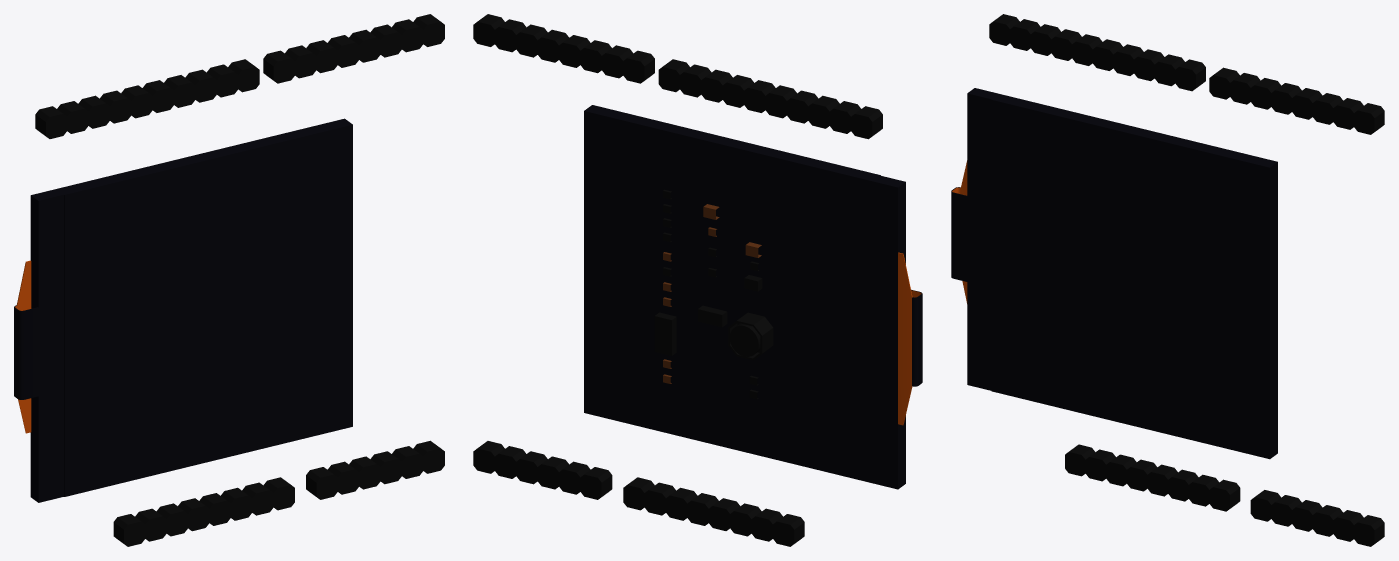
Rendered from Devices.obj.
3 renders of one model, left to right at view 1: azimuth 30°, elevation 25°; view 2: azimuth 150°, elevation 25°; view 3: azimuth 330°, elevation 25°, orthographic. The views are drawn at different scales.
Parts seen in each view (by area): view 1: screen, base01b, base01a, base02b, base02a; view 2: screen, base01b, base02b, base01a, LCD_devices, base02a; view 3: screen, base01b, base02b, base01a, base02a.
Part boxes in pixels (bbox=[...]): screen: bbox=[14, 118, 352, 502]; base01b: bbox=[35, 59, 259, 138]; base01a: bbox=[263, 14, 444, 83]; base02b: bbox=[113, 477, 294, 546]; base02a: bbox=[306, 440, 444, 499]; screen: bbox=[584, 105, 922, 489]; base01b: bbox=[658, 59, 882, 139]; base02b: bbox=[623, 477, 804, 546]; base01a: bbox=[473, 14, 654, 83]; LCD_devices: bbox=[654, 189, 773, 399]; base02a: bbox=[473, 441, 612, 499]; screen: bbox=[951, 88, 1277, 459]; base01b: bbox=[989, 14, 1205, 91]; base02b: bbox=[1065, 444, 1240, 511]; base01a: bbox=[1209, 67, 1384, 134]; base02a: bbox=[1250, 490, 1384, 546].
Bounding box in the file's own units: 0.0509 × 0.0505 × 0.00578.
